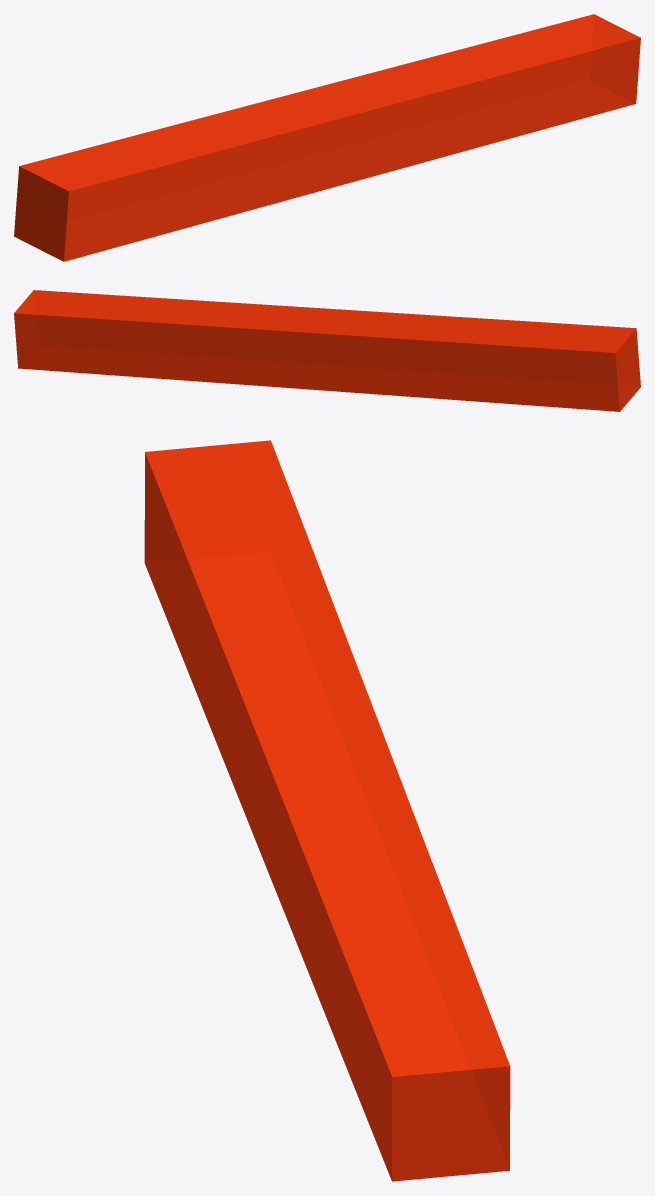
Rendered from Event_421278790_EErechit_6.fbx.
The picture shows the model from 3 angles, top to bottom: view 1: azimuth 30°, elevation 25°; view 2: azimuth 150°, elevation 25°; view 3: azimuth 270°, elevation 25°; orthographic projection. The views are drawn at different scales.
Visible parts, largest first — view 1: Model; view 2: Model; view 3: Model.
Part boxes in pixels (x1,y1,x2,y2): Model: [14, 14, 640, 261]; Model: [14, 290, 640, 411]; Model: [144, 440, 510, 1181].
Size of the model in its own units: 0.7754 by 0.1381 by 0.2209.
